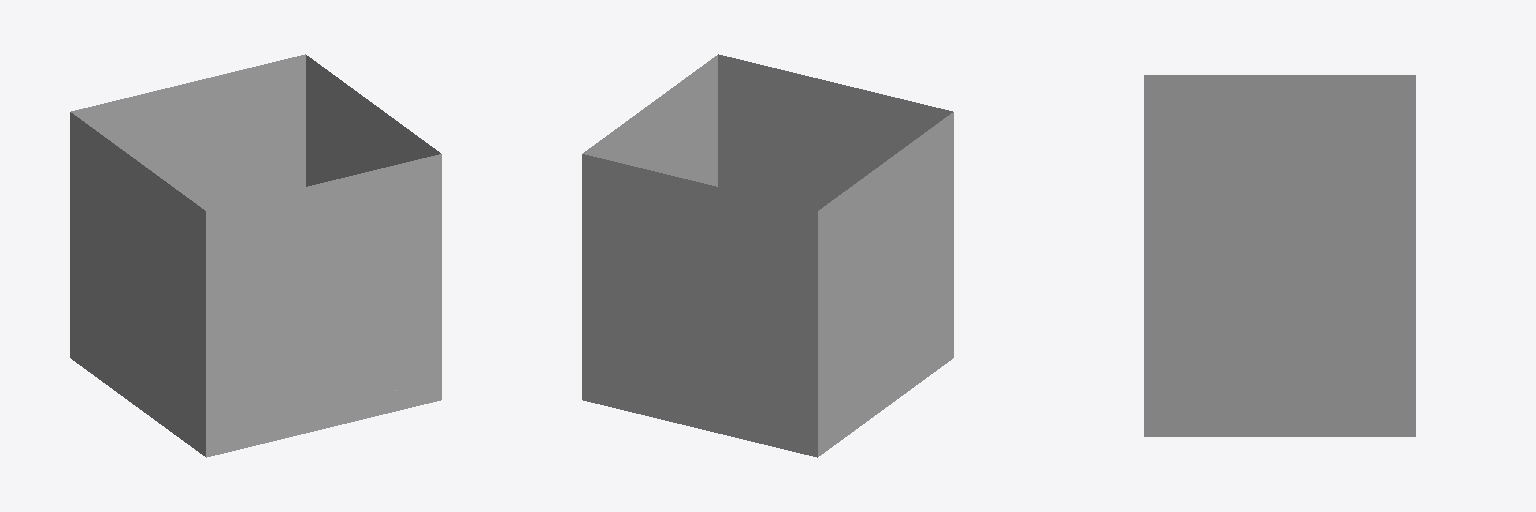
Rendered from dock3_0.obj.
The picture shows the model from 3 angles: view 1: azimuth 30°, elevation 25°; view 2: azimuth 150°, elevation 25°; view 3: azimuth 270°, elevation 25°; orthographic projection.
Visible parts, largest first — view 1: Cube; view 2: Cube; view 3: Cube.
Part boxes in pixels (left/top/right/bottom): Cube: left=70, top=54, right=441, bottom=457; Cube: left=582, top=54, right=953, bottom=457; Cube: left=1144, top=75, right=1415, bottom=436.
Bounding box in the file's own units: 2 × 2 × 2.